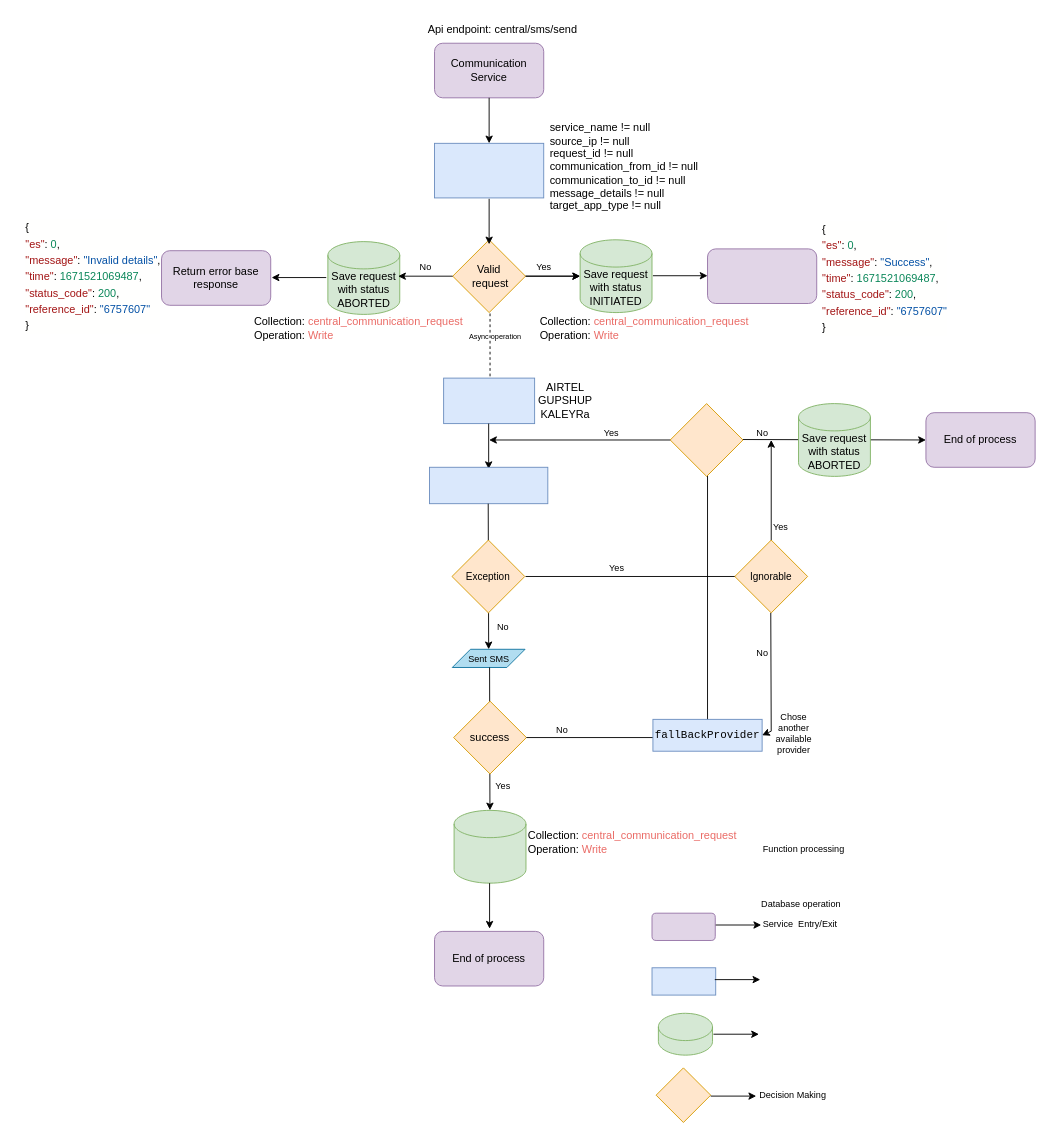
The diagram is 1051 pixels wide and 1138 high, and some of its shapes have lost their labels. Each missing label, with the box of its shape:
getErrorFromProvider: (429, 466, 548, 504)
getSMSManager: (443, 377, 535, 424)
Provider available: (669, 403, 743, 476)
Return success base response: (707, 248, 817, 303)
Save request with status COMPLETED: (453, 809, 526, 883)
Validate the request is genuine and proper request: (434, 142, 544, 198)
